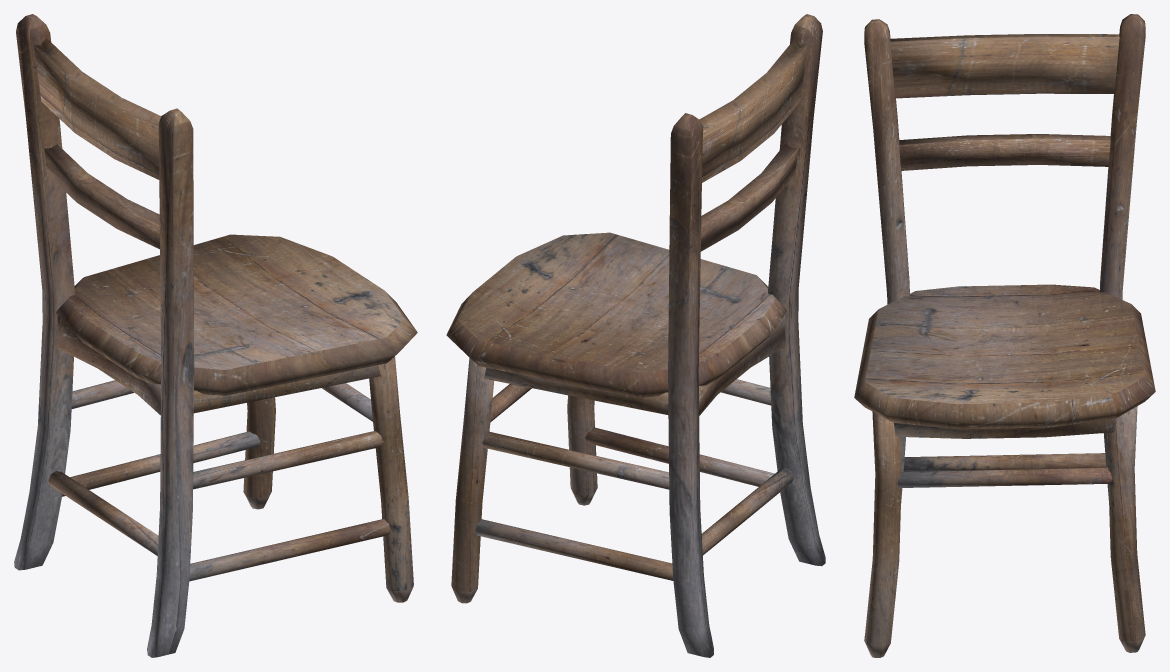
File: ChairTest.FBX
3 renders of one model, left to right at view 1: azimuth 30°, elevation 25°; view 2: azimuth 150°, elevation 25°; view 3: azimuth 270°, elevation 25°, orthographic. The views are drawn at different scales.
Visible parts, largest first — view 1: Object189; view 2: Object189; view 3: Object189.
Part boxes in pixels (box(x1,y1,x2,y2)): Object189: box(14, 14, 417, 657); Object189: box(446, 14, 825, 657); Object189: box(854, 14, 1155, 657).
Size of the model in its own units: 82.62 by 147 by 76.03.
